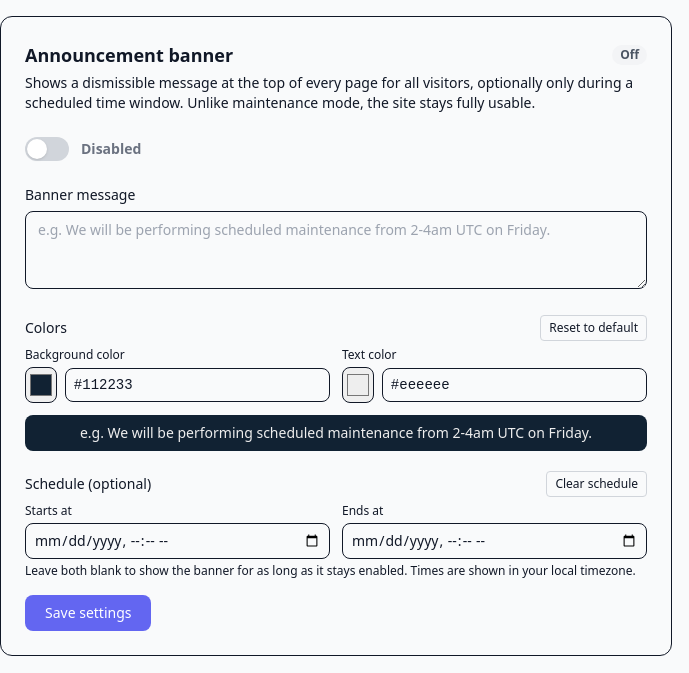
Scenario: BannerPanel › "Reset to default" sends reset_colors:true and restores the default colors
Expected: the switch is shown, [25, 137, 69, 161]
Expected: the colour field showing "#112233" below "Background color" is shown, [25, 367, 57, 403]
Click the button "Reset to default". click: [594, 328]
box: [540, 315, 647, 341]
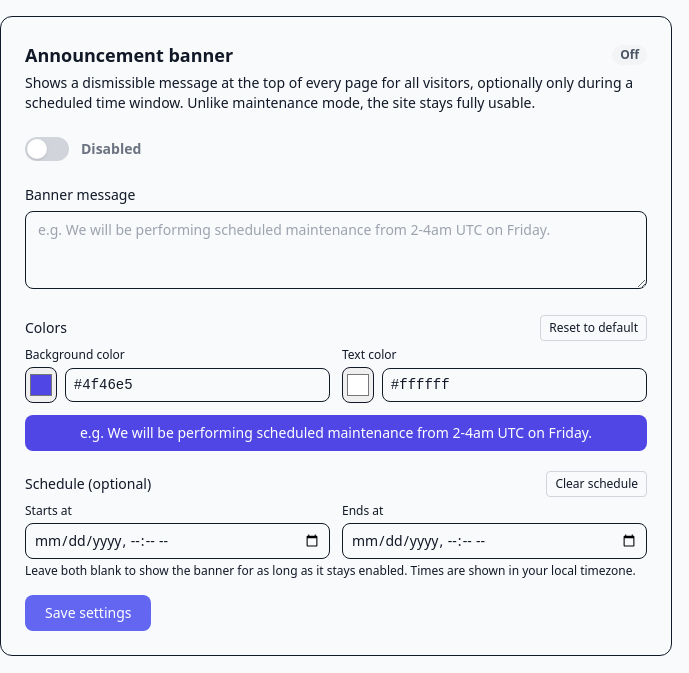
Expected: the colour field showing "#ffffff" below "Text color" is shown, [342, 367, 374, 403]
Now the colour field showing "#4f46e5" below "Background color" is shown, box [25, 367, 57, 403]
